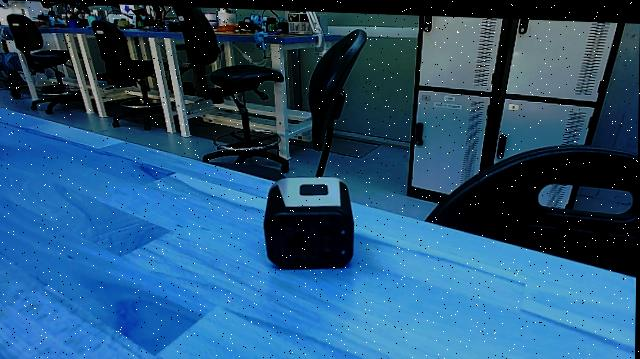adapter: (253, 163, 358, 273)
